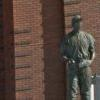Statue: (60, 10, 100, 100)
